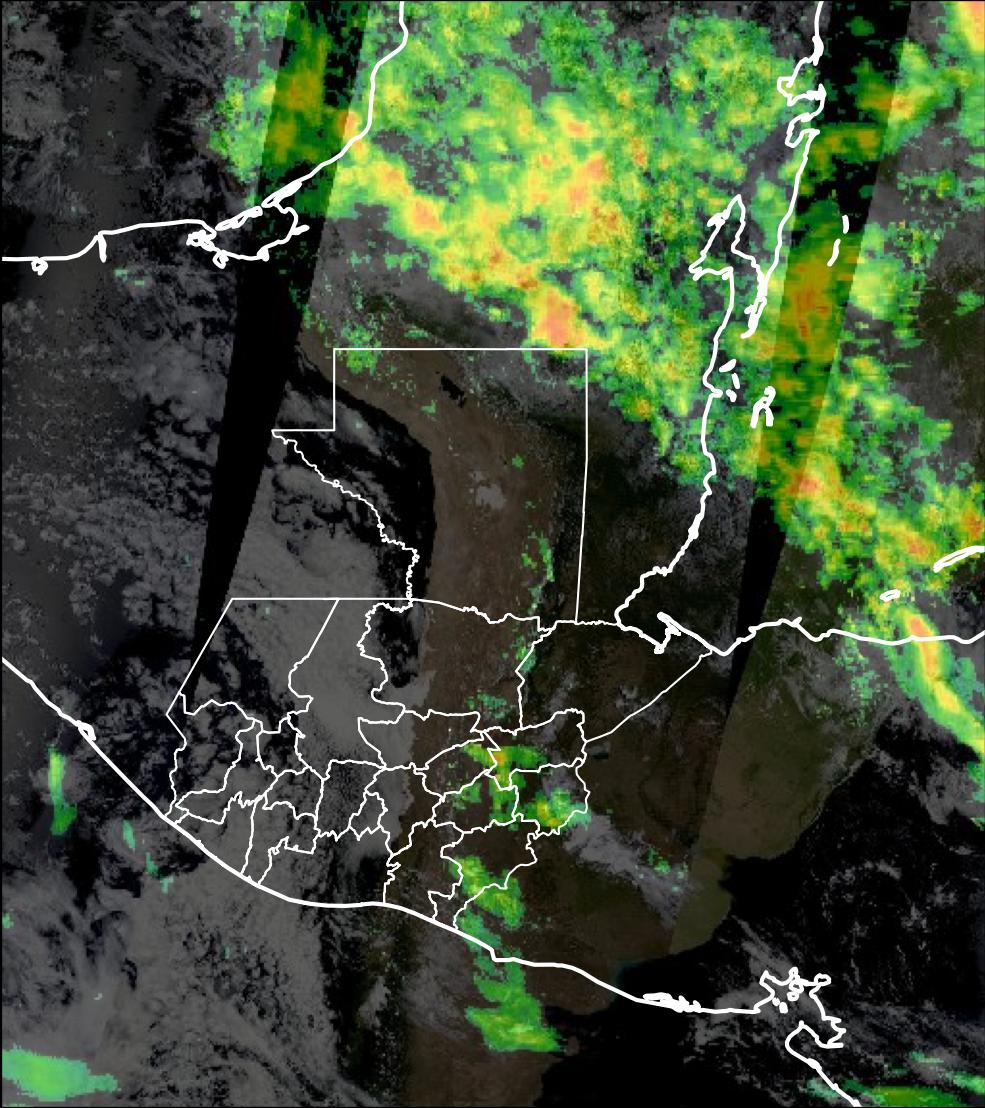precipitacion: (546, 150, 628, 242), (519, 290, 598, 344)
